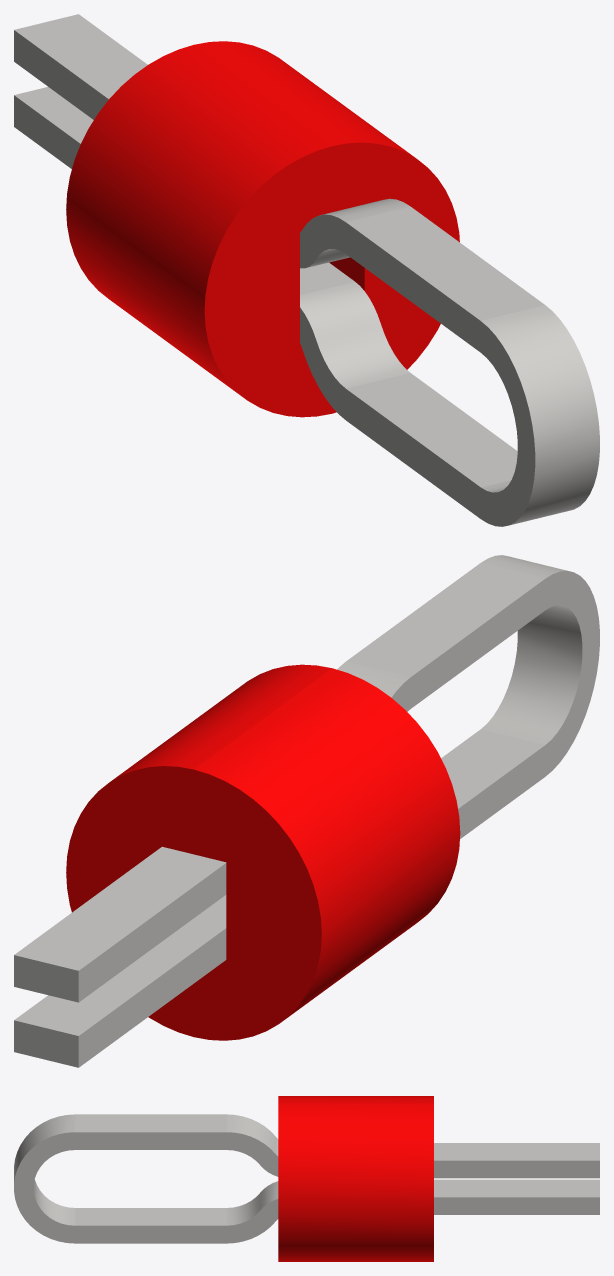
3 views of the same model, one above another, from view 1: azimuth 30°, elevation 25°; view 2: azimuth 150°, elevation 25°; view 3: azimuth 270°, elevation 25° (orthographic). The views are drawn at different scales.
Visible parts, largest first — view 1: Keystone5005_red, Keystone_multipurpose_wire; view 2: Keystone5005_red, Keystone_multipurpose_wire; view 3: Keystone_multipurpose_wire, Keystone5005_red.
Part boxes in pixels (x1=…): Keystone5005_red: x1=66, y1=41, x2=459, y2=417; Keystone_multipurpose_wire: x1=14, y1=14, x2=599, y2=526; Keystone5005_red: x1=66, y1=664, x2=460, y2=1040; Keystone_multipurpose_wire: x1=14, y1=555, x2=599, y2=1067; Keystone_multipurpose_wire: x1=14, y1=1114, x2=599, y2=1243; Keystone5005_red: x1=278, y1=1096, x2=433, y2=1261.
Size of the model in its own units: 3.2 by 3.2 by 11.3.
